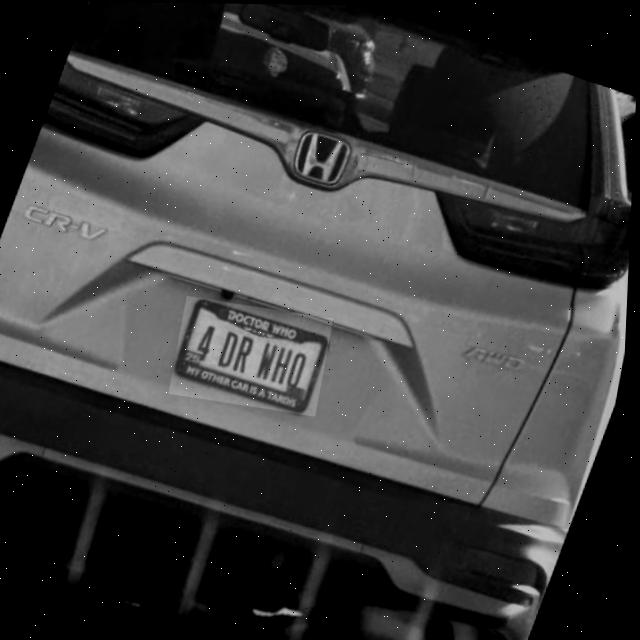LicensePlate: (176, 298, 333, 414)
